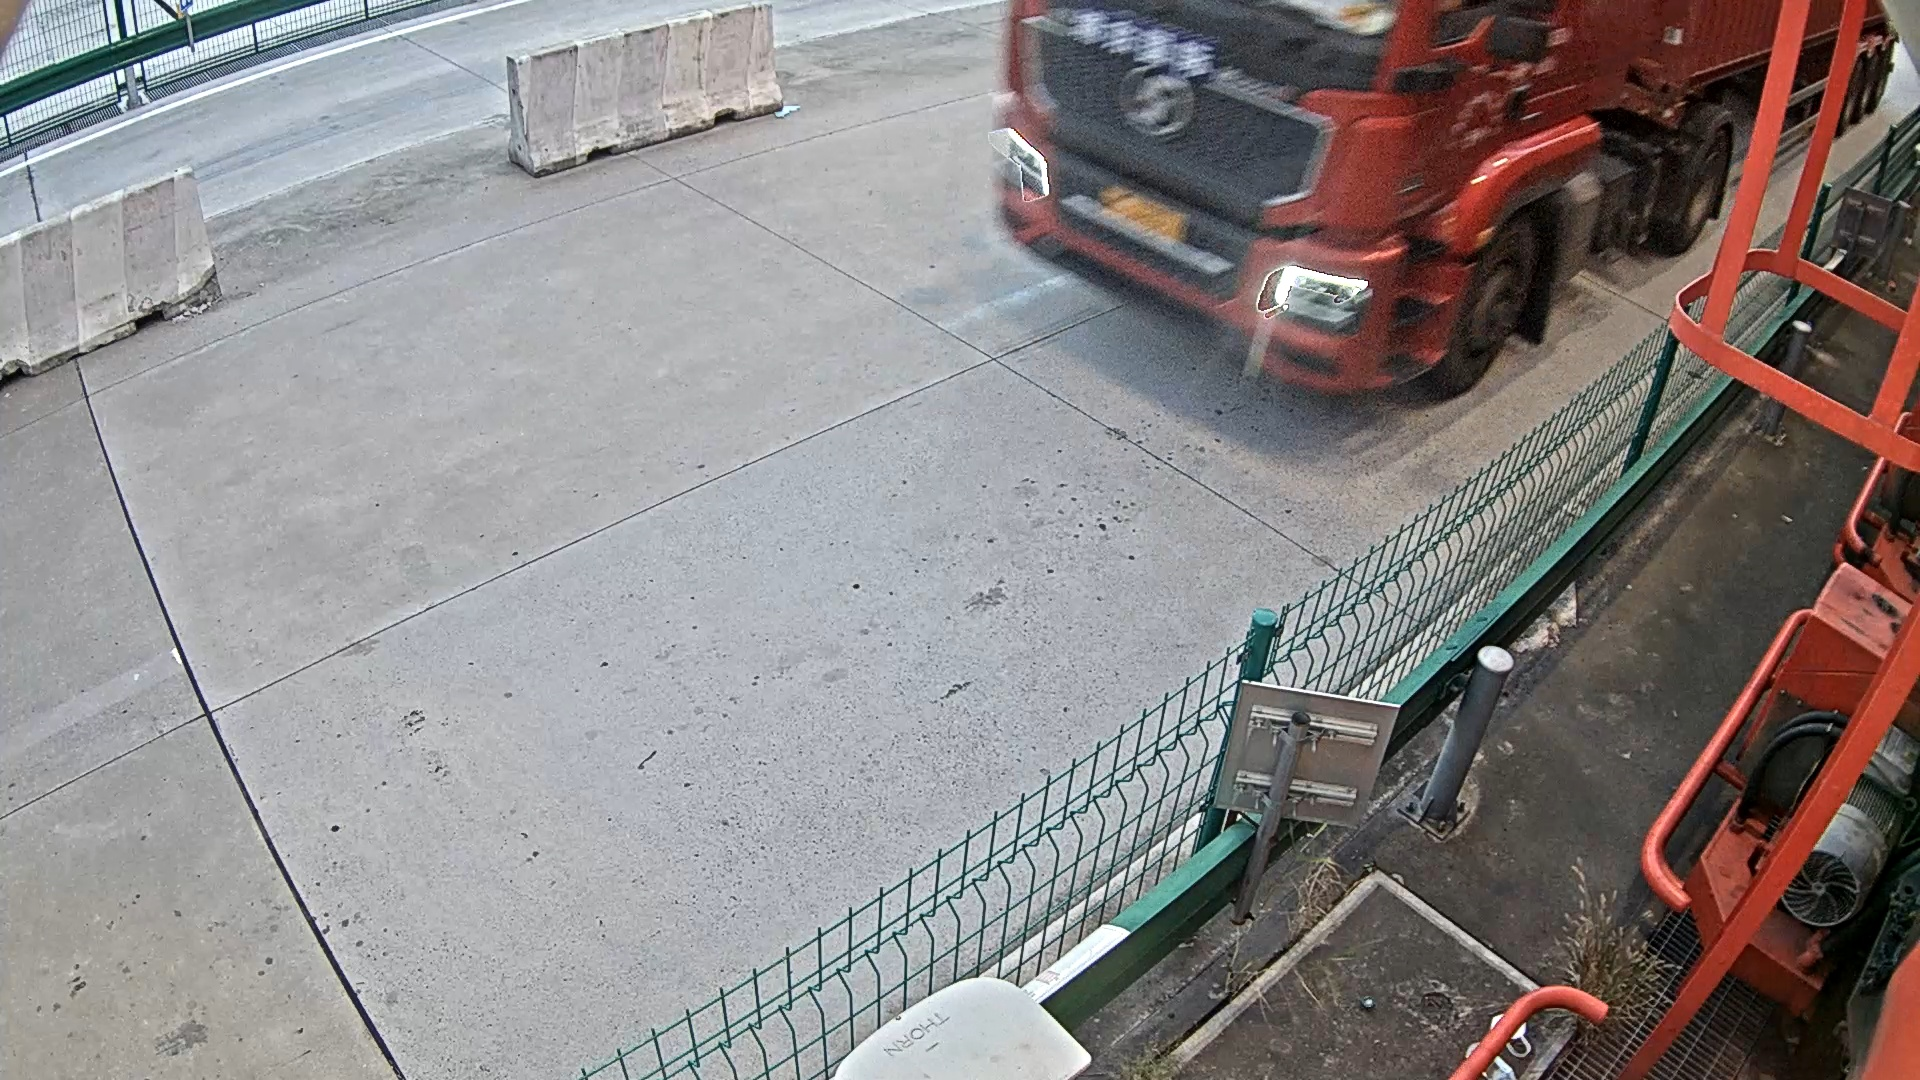head: (997, 11, 1551, 447)
plate: (1097, 176, 1233, 258)
